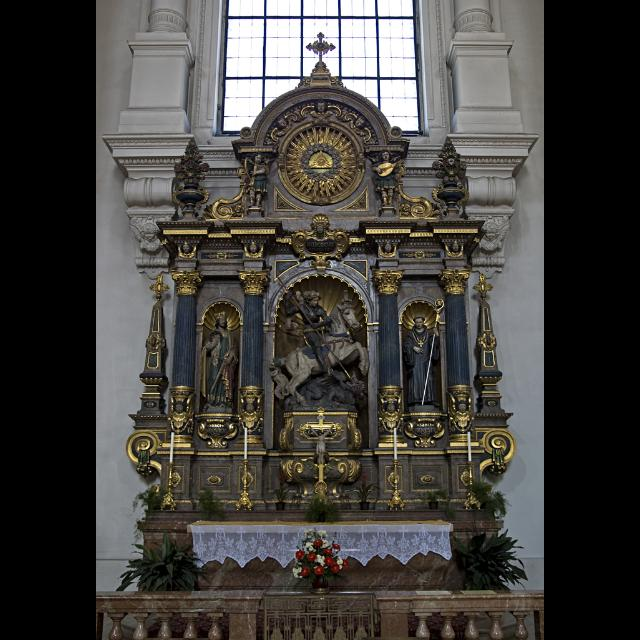Flower: (290, 530, 348, 580)
